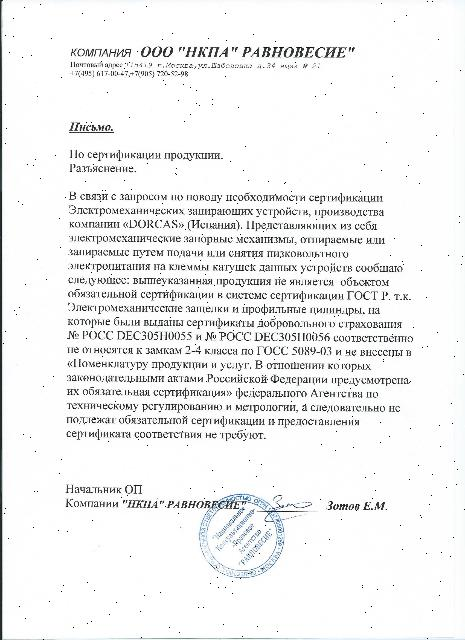stamp: (198, 492, 284, 578)
